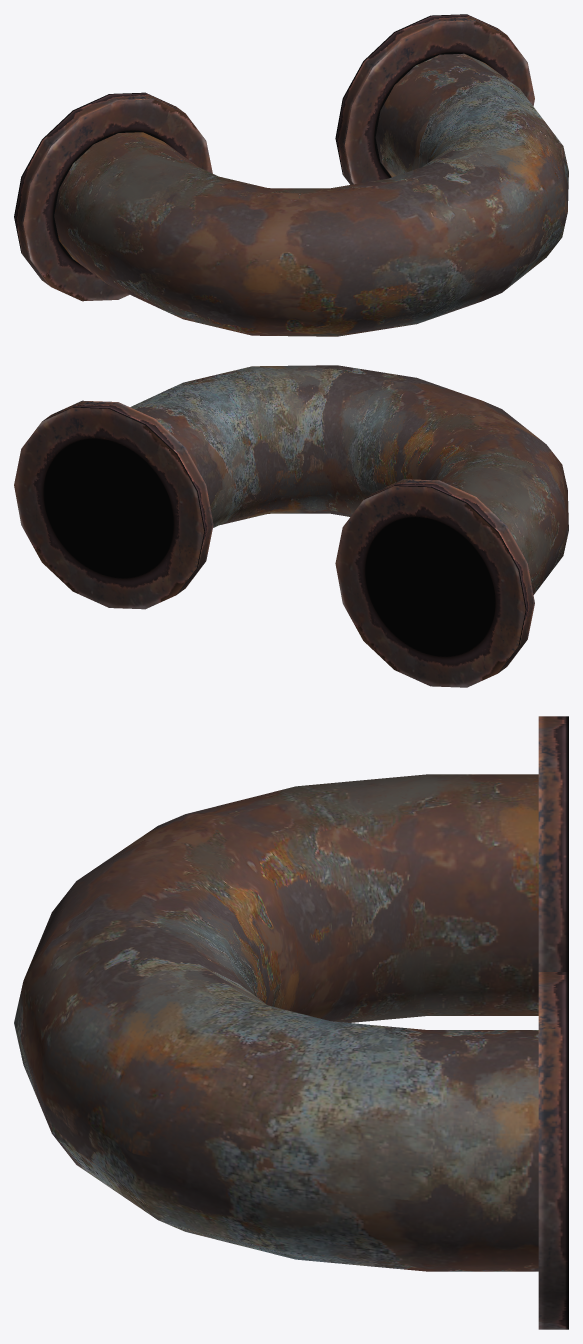
File: pipe03_U.fbx
The picture shows the model from 3 angles, top to bottom: view 1: azimuth 30°, elevation 25°; view 2: azimuth 150°, elevation 25°; view 3: azimuth 270°, elevation 25°; orthographic projection. The views are drawn at different scales.
Visible parts, largest first — view 1: pipe03_U; view 2: pipe03_U; view 3: pipe03_U.
Part boxes in pixels (x1,y1,x2,y2): pipe03_U: (14,14,568,336); pipe03_U: (14,365,568,687); pipe03_U: (14,716,568,1329).
Bounding box in the file's own units: 159 × 59.2 × 91.79.
